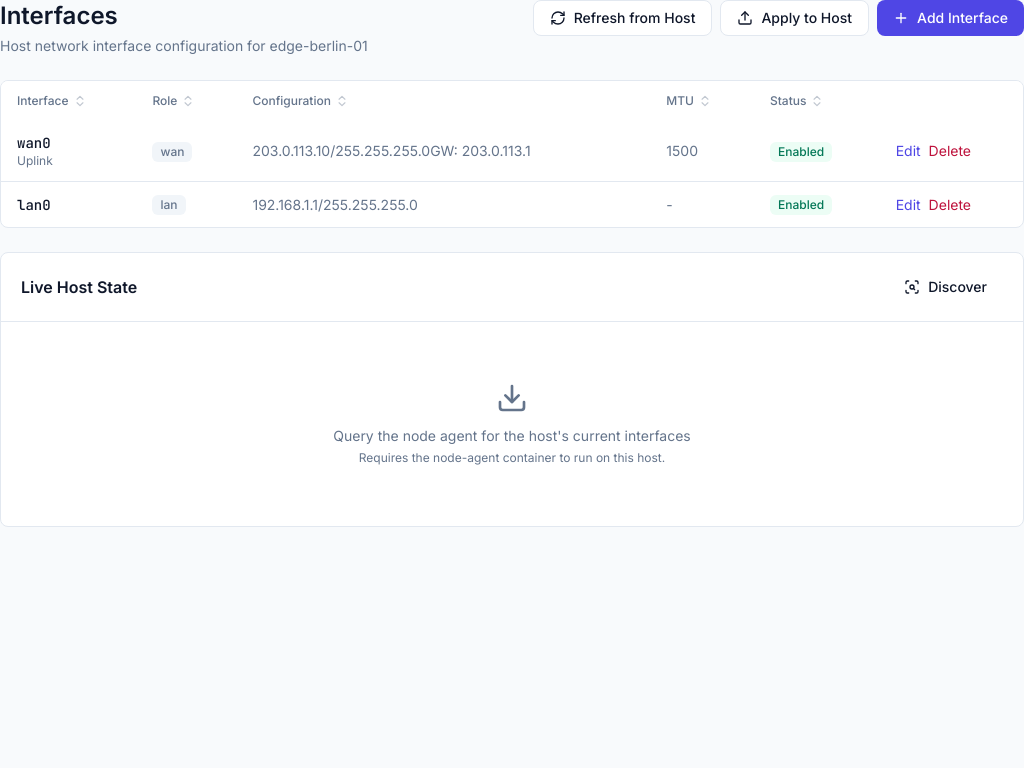
Scenario: Interfaces › applies configuration and shows the result
Step 1. Click the button "Apply to Host" → (795, 18), box [720,0,869,36]
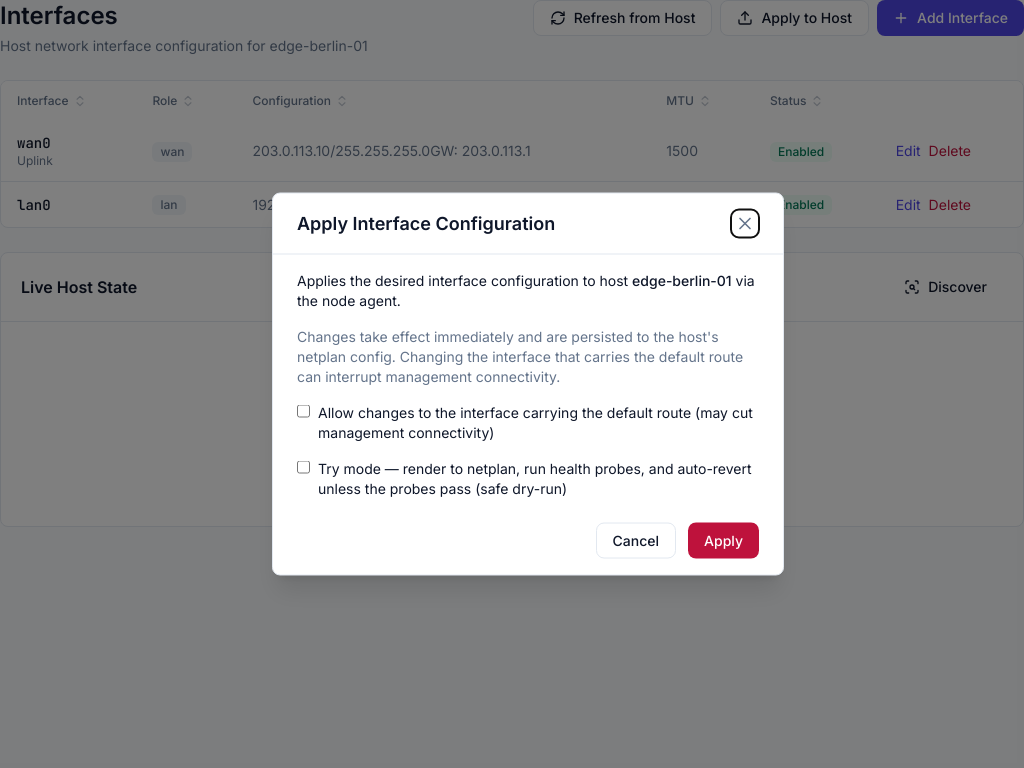
Step 2. Click the button "Apply" → (724, 540), box [688,522,759,558]
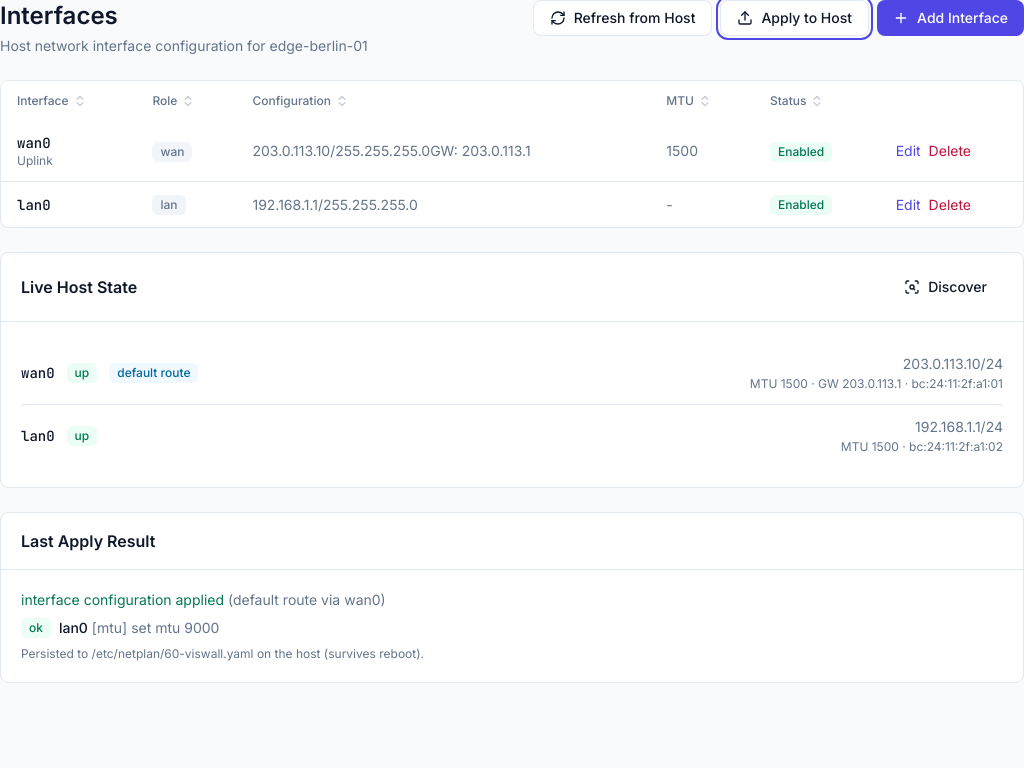
Expected: the heading "Last Apply Result" is shown, [21,529,155,553]
Expected: the text "interface configuration applied" is shown, [21,591,224,608]
Expected: the text "Persisted to /etc/netplan/60-viswall.yaml" is shown, [21,646,424,661]
